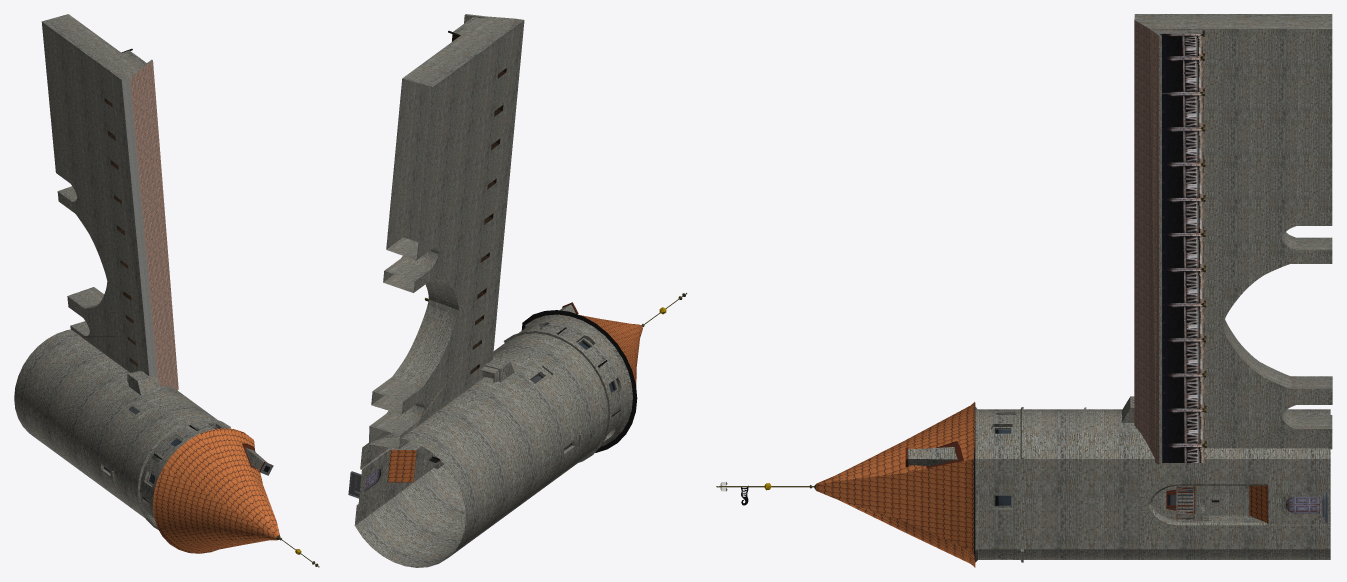
The model's file is Vaike-Kloostri_1.obj.
3 views of the same model, side by side, from view 1: azimuth 30°, elevation 25°; view 2: azimuth 150°, elevation 25°; view 3: azimuth 270°, elevation 25° (orthographic). The views are drawn at different scales.
Parts seen in each view (by area): view 1: Vaike_Kloostri_1; view 2: Vaike_Kloostri_1; view 3: Vaike_Kloostri_1.
Part boxes in pixels (box(x1,y1,x2,y2)): Vaike_Kloostri_1: box(14, 14, 319, 567); Vaike_Kloostri_1: box(348, 14, 687, 567); Vaike_Kloostri_1: box(716, 14, 1332, 567).
Bounding box in the file's own units: 9.95 × 37.72 × 39.45.
